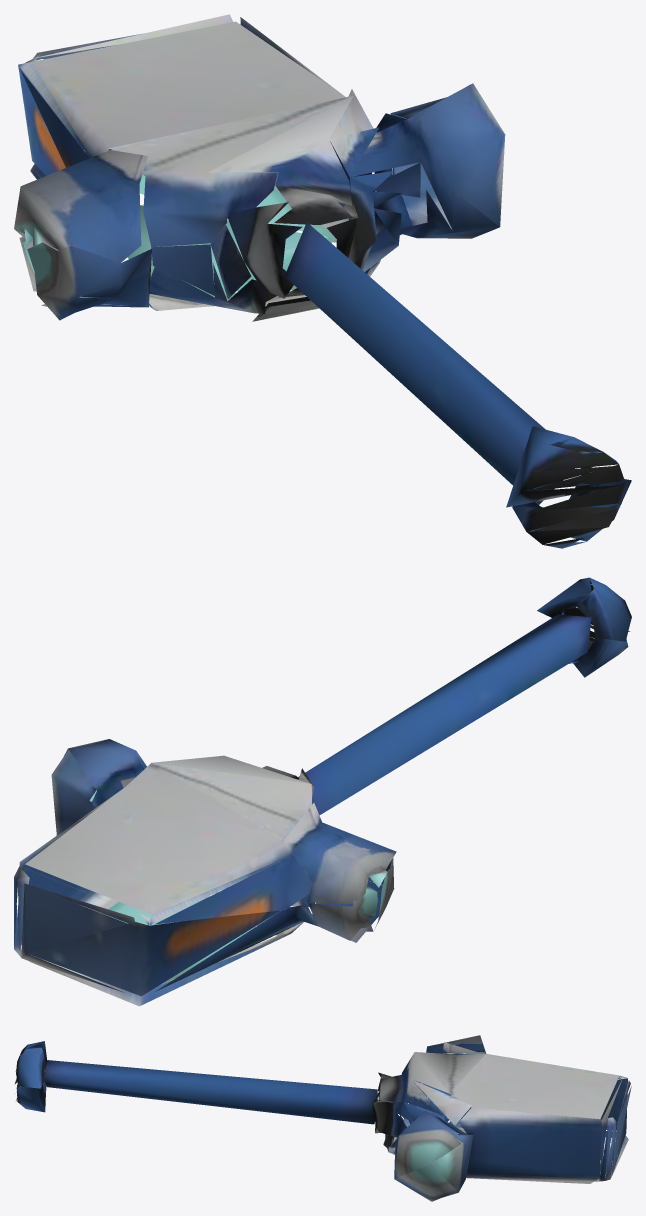
The model's file is s_warhammer_lod1.fbx.
3 renders of one model, top to bottom at view 1: azimuth 30°, elevation 25°; view 2: azimuth 150°, elevation 25°; view 3: azimuth 270°, elevation 25°, orthographic. The views are drawn at different scales.
Parts seen in each view (by area): view 1: tripo_node_95f56484-cbf3-4c27-9882-b3627be247ca; view 2: tripo_node_95f56484-cbf3-4c27-9882-b3627be247ca; view 3: tripo_node_95f56484-cbf3-4c27-9882-b3627be247ca.
Part boxes in pixels (x1,y1,x2,y2): tripo_node_95f56484-cbf3-4c27-9882-b3627be247ca: (14, 14, 631, 548); tripo_node_95f56484-cbf3-4c27-9882-b3627be247ca: (14, 577, 631, 1006); tripo_node_95f56484-cbf3-4c27-9882-b3627be247ca: (15, 1035, 631, 1201).
Bounding box in the file's own units: 0.6452 × 0.2441 × 1.5.
